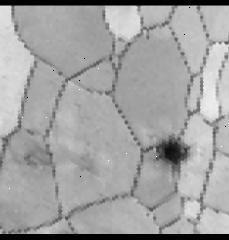good_void: (148, 132, 194, 177), (17, 141, 55, 176), (67, 141, 98, 177), (145, 205, 158, 224)
